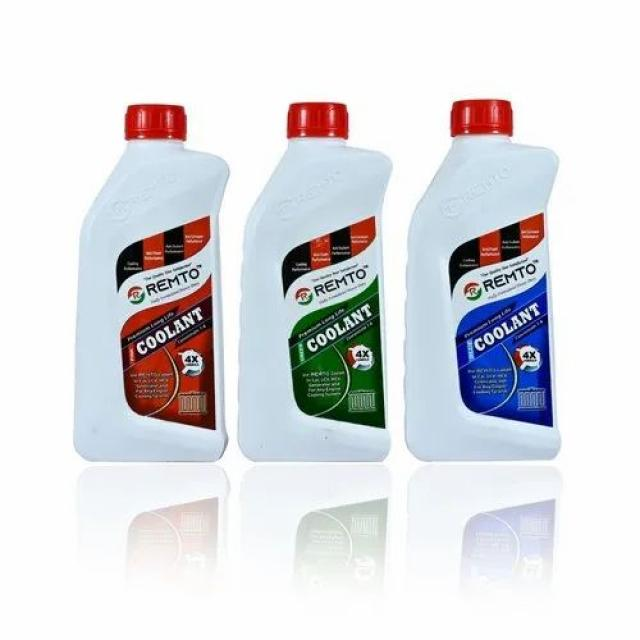coolant: (403, 99, 571, 468), (68, 96, 232, 468), (242, 91, 394, 466)
